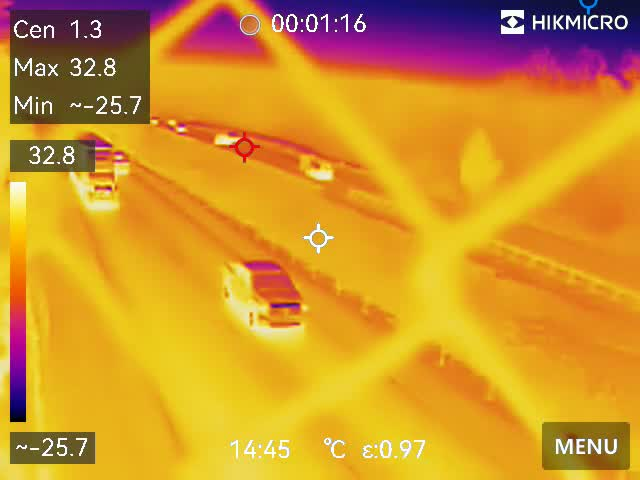heavyTruck: (60, 123, 120, 220)
lightTruck: (217, 253, 309, 337)
vehicle: (300, 156, 335, 186), (215, 128, 244, 147), (112, 150, 132, 174), (172, 123, 186, 136), (149, 115, 162, 125)
